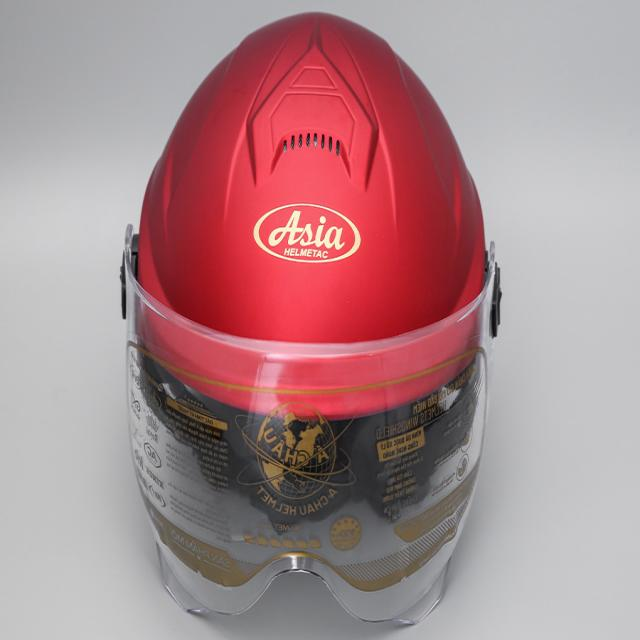Helmet: (114, 9, 508, 628)
